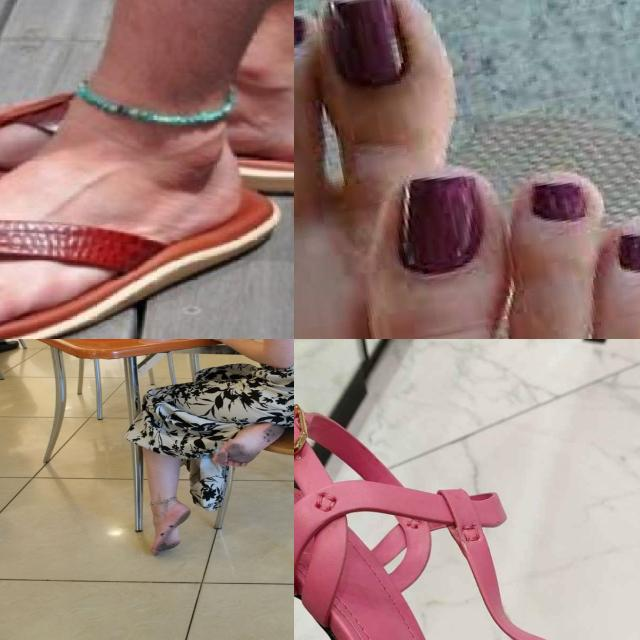Barefoots: (294, 0, 640, 339), (212, 421, 285, 467), (150, 502, 190, 556)
Sandals: (294, 388, 640, 640), (0, 133, 270, 339), (0, 78, 294, 207)
